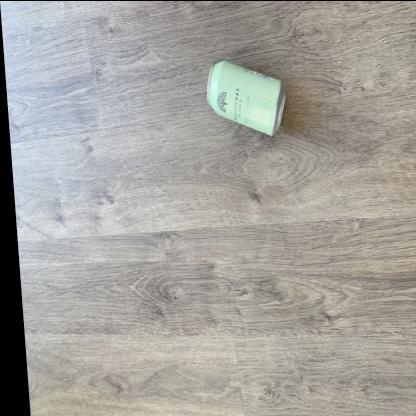trash: (207, 61, 284, 135)
